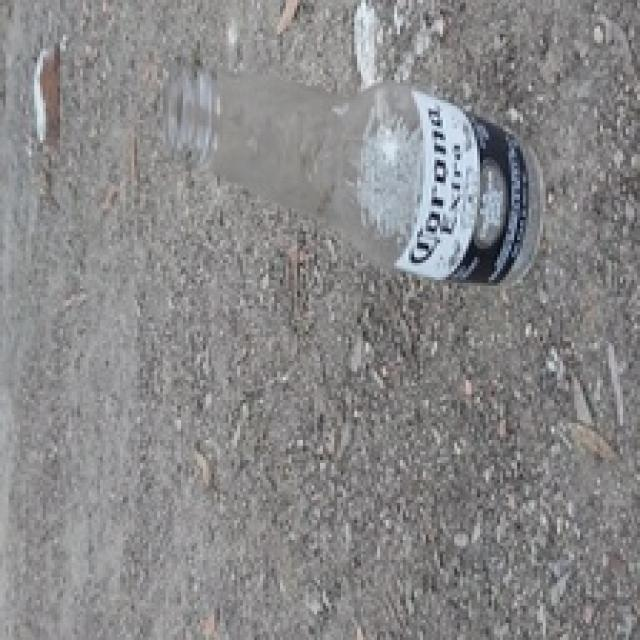Glass: (158, 54, 542, 288)
